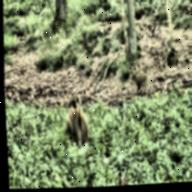boar: (57, 82, 103, 150), (122, 48, 162, 97)
